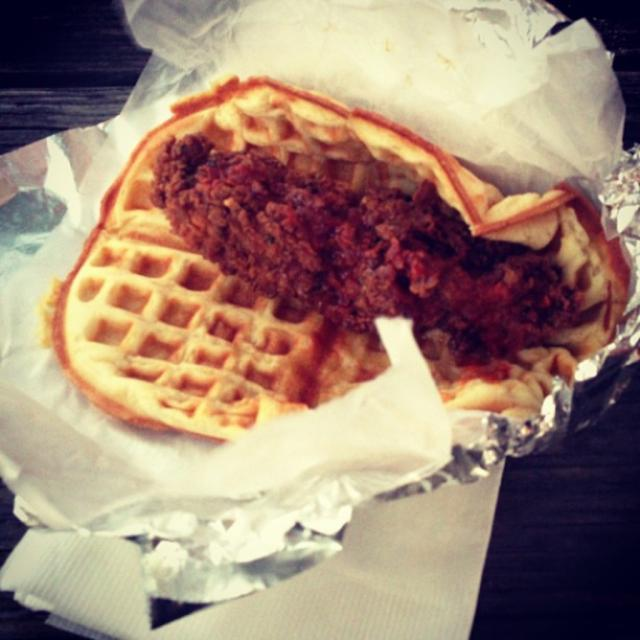Waffle: (39, 73, 632, 439)
